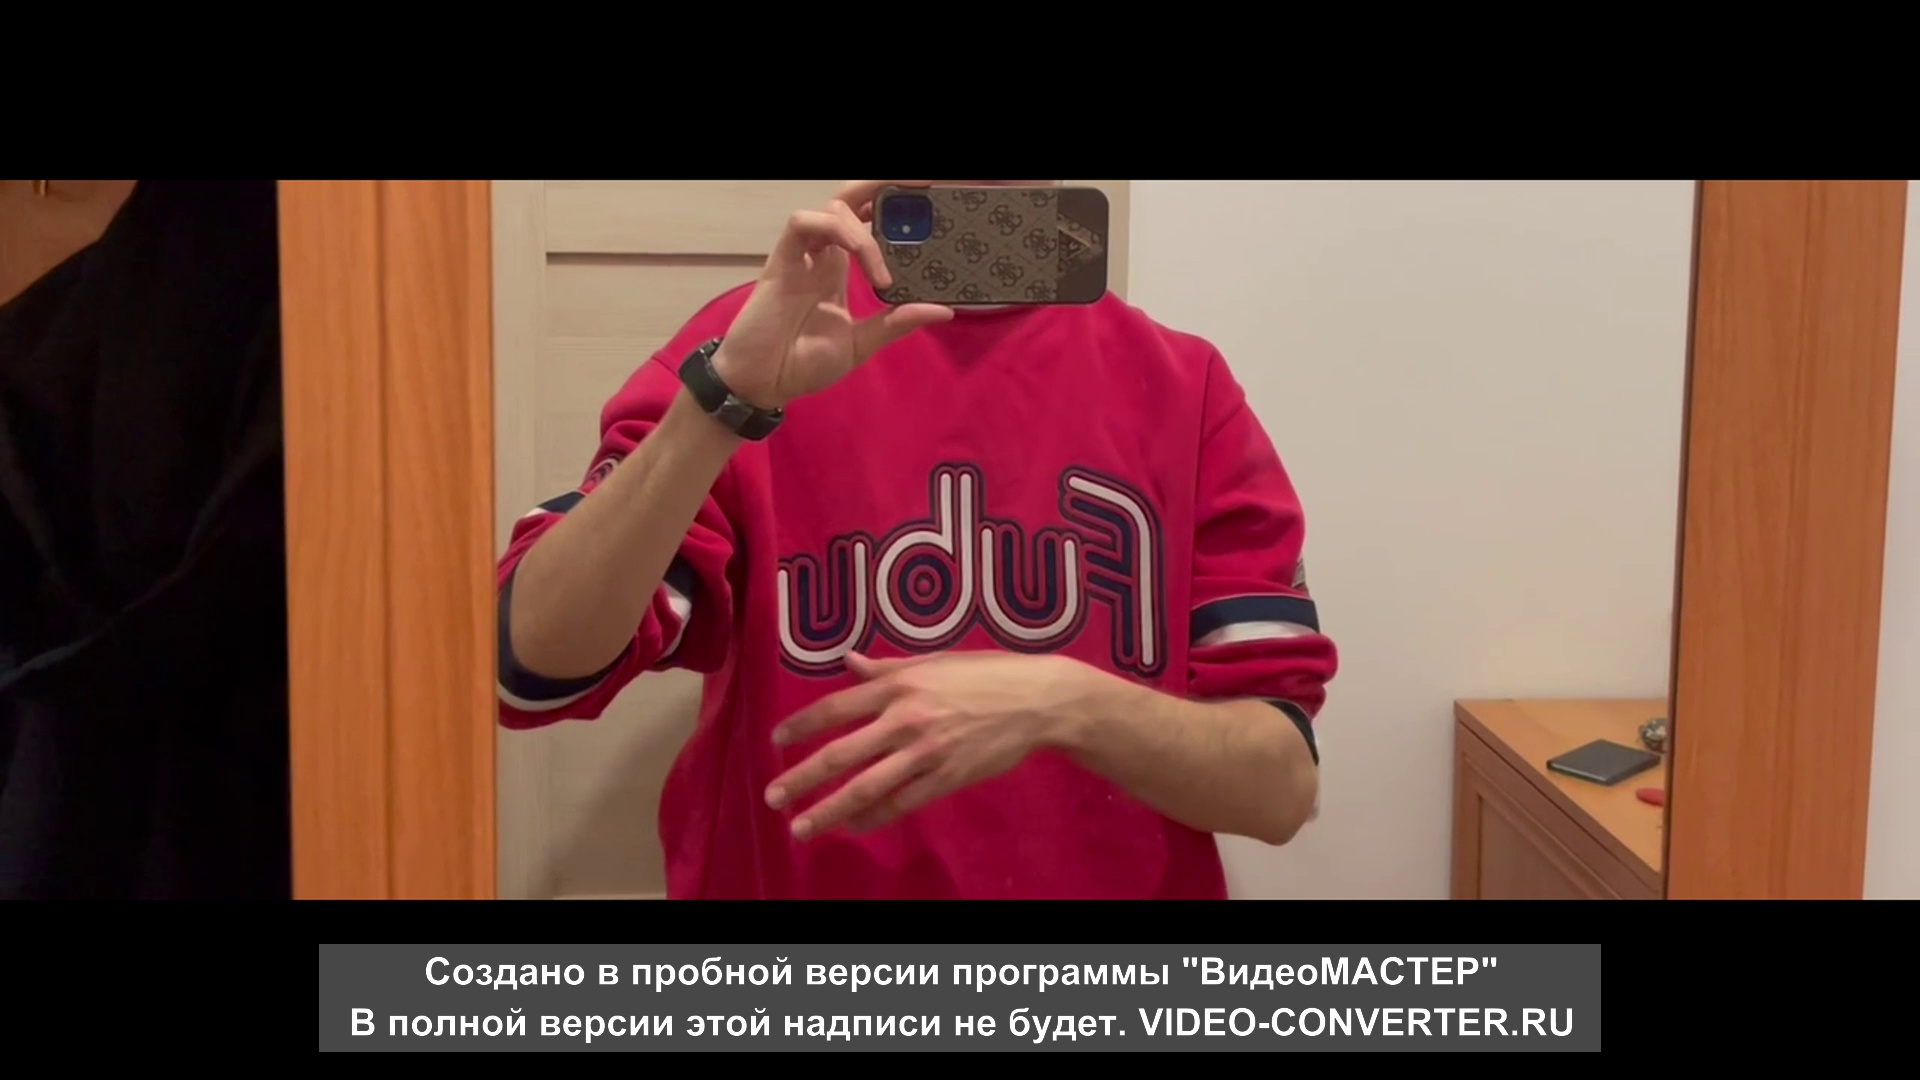Кисть: (766, 650, 1077, 840)
